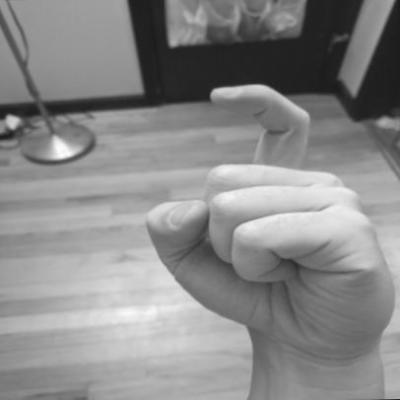hand: (135, 74, 399, 355)
